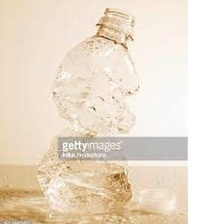bottle: (32, 6, 145, 216)
